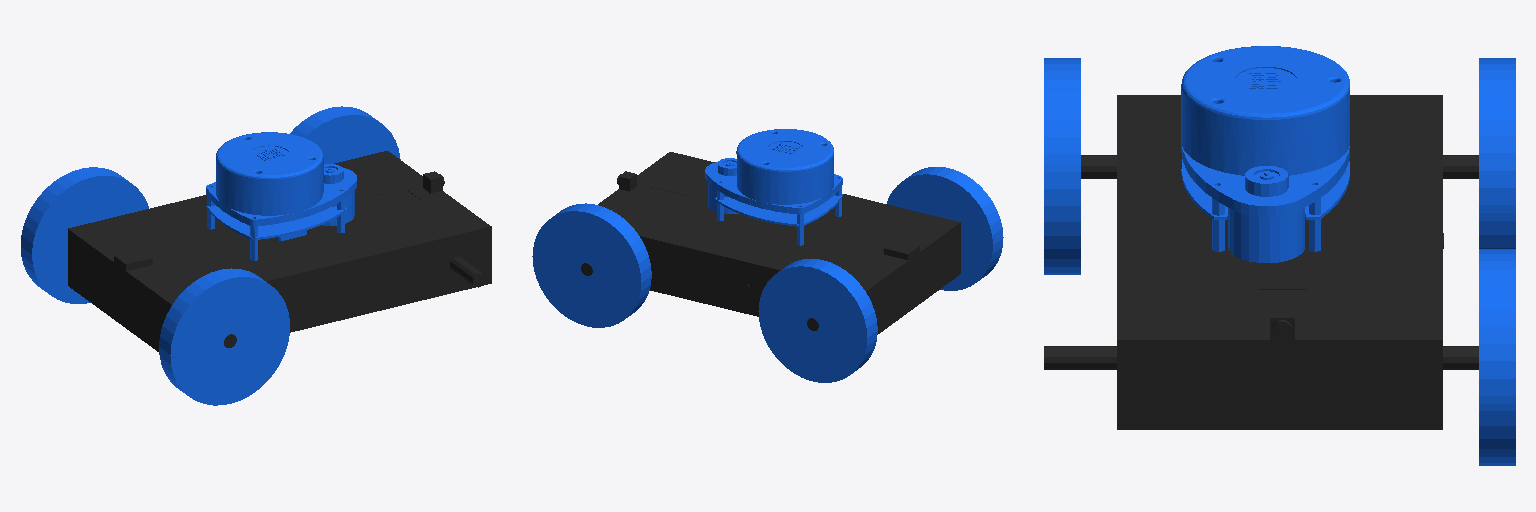
The robot description file, URDF, robot "ck":
<?xml version="1.0" encoding="utf-8"?>
<!-- This URDF was automatically created by SolidWorks to URDF Exporter! Originally created by [author] ([email redacted]) 
     Commit Version: 1.6.0-4-g7f85cfe  Build Version: 1.6.7995.38578
     For more information, please see http://wiki.ros.org/sw_urdf_exporter -->
<robot
  name="ck">
  <link
    name="base_link">
    <inertial>
      <origin
        xyz="0.0841187968335356 0.112401722324964 0.178721217481401"
        rpy="0 0 0" />
      <mass
        value="9.65650931147462" />
      <inertia
        ixx="0.0480130155812075"
        ixy="-2.16128335468421E-08"
        ixz="2.86811488996925E-07"
        iyy="0.06169044482379"
        iyz="-1.5067102443124E-06"
        izz="0.0163609670809155" />
    </inertial>
    <visual>
      <origin
        xyz="0 0 0"
        rpy="0 0 0" />
      <geometry>
        <mesh
          filename="package://ck_control/meshes/base_link.STL" />
      </geometry>
      <material
        name="">
        <color
          rgba="0.2 0.2 0.2 1" />
      </material>
    </visual>
    <collision>
      <origin
        xyz="0 0 0"
        rpy="0 0 0" />
      <geometry>
        <mesh
          filename="package://ck_control/meshes/base_link.STL" />
      </geometry>
    </collision>
  </link>
  <link
    name="camera_Link">
    <inertial>
      <origin
        xyz="-5.1945E-14 2.7756E-17 -0.005992"
        rpy="0 0 0" />
      <mass
        value="0.0072806" />
      <inertia
        ixx="1.2321E-07"
        ixy="7.2268E-24"
        ixz="-5.4439E-23"
        iyy="1.2321E-07"
        iyz="-4.9685E-23"
        izz="1.1481E-07" />
    </inertial>
    <visual>
      <origin
        xyz="0 0 0"
        rpy="0 0 0" />
      <geometry>
        <mesh
          filename="package://ck_control/meshes/camera_Link.STL" />
      </geometry>
      <material
        name="">
        <color
          rgba="0.2 0.2 0.2 1" />
      </material>
    </visual>
    <collision>
      <origin
        xyz="0 0 0"
        rpy="0 0 0" />
      <geometry>
        <mesh
          filename="package://ck_control/meshes/camera_Link.STL" />
      </geometry>
    </collision>
  </link>
  <joint
    name="camera_joint"
    type="fixed">
    <origin
      xyz="0.12225 0.0010282 0.046"
      rpy="1.5708 0 1.5708" />
    <parent
      link="base_link" />
    <child
      link="camera_Link" />
    <axis
      xyz="0 0 0" />
    <limit
      lower="0"
      upper="0"
      effort="0"
      velocity="0" />
  </joint>
  <link
    name="lidar_Link">
    <inertial>
      <origin
        xyz="-0.0074835 0.010668 9.1926E-05"
        rpy="0 0 0" />
      <mass
        value="1.2284" />
      <inertia
        ixx="0.00056762"
        ixy="0.00014607"
        ixz="7.4029E-07"
        iyy="0.0010137"
        iyz="2.8538E-06"
        izz="0.0008868" />
    </inertial>
    <visual>
      <origin
        xyz="0 0 0"
        rpy="0 0 0" />
      <geometry>
        <mesh
          filename="package://ck_control/meshes/lidar_Link.STL" />
      </geometry>
  <material name="clearblue" >
    <color rgba="0.1411764705882353 0.47843137254901963 0.9921568627450981 1.0" />
  </material>
    </visual>
    <collision>
      <origin
        xyz="0 0 0"
        rpy="0 0 0" />
      <geometry>
        <mesh
          filename="package://ck_control/meshes/lidar_Link.STL" />
      </geometry>
    </collision>
  </link>
  <joint
    name="lidar_joint"
    type="fixed">
    <origin
      xyz="0.0034645 -0.0056967 0.0656"
      rpy="1.5708 0 0.0079677" />
    <parent
      link="base_link" />
    <child
      link="lidar_Link" />
    <axis
      xyz="0 0 0" />
  </joint>
  <link
    name="left1_wheel_Link">
    <inertial>
      <origin
        xyz="1.38777878078145E-17 2.77555756156289E-17 8.67361737988404E-19"
        rpy="0 0 0" />
      <mass
        value="0.678584013175395" />
      <inertia
        ixx="0.000360497756999429"
        ixy="-8.09870282623048E-40"
        ixz="-1.17025383189539E-18"
        iyy="0.000360497756999429"
        iyz="4.5364235985708E-37"
        izz="0.00069554861350478" />
    </inertial>
    <visual>
      <origin
        xyz="0 0 0"
        rpy="0 0 0" />
      <geometry>
        <mesh
          filename="package://ck_control/meshes/left1_wheel_Link.STL" />
      </geometry>    
  <material name="clearblue" >
    <color rgba="0.1411764705882353 0.47843137254901963 0.9921568627450981 1.0" />
  </material>
    </visual>
    <collision>
      <origin
        xyz="0 0 0"
        rpy="0 0 0" />
      <geometry>
        <mesh
          filename="package://ck_control/meshes/left1_wheel_Link.STL" />
      </geometry>
    </collision>
  </link>
  <joint
    name="left1_wheel_link_joint"
    type="continuous">
    <origin
      xyz="0.093647 0.090012 0.0205"
      rpy="-1.5708 0 3.1416" />
    <parent
      link="base_link" />
    <child
      link="left1_wheel_Link" />
    <axis
      xyz="0 0 -1" />
    <dynamics
      damping="0.1"
      friction="0.1" />
  </joint>
  <transmission name="left1_wheel_trans">
  <type>transmission_interface/SimpleTransmission</type>
  <joint name="left1_wheel_link_joint">
    <hardwareInterface>hardware_interface/VelocityJointInterface</hardwareInterface>
  </joint>
  <actuator name="left1_wheel_motor">
    <hardwareInterface>hardware_interface/VelocityJointInterface</hardwareInterface>
    <mechanicalReduction>1</mechanicalReduction>
  </actuator>
</transmission>
  <link
    name="left2_wheel_Link">
    <inertial>
      <origin
        xyz="0 0 1.7347E-18"
        rpy="0 0 0" />
      <mass
        value="0.67858" />
      <inertia
        ixx="0.0003605"
        ixy="-8.0987E-40"
        ixz="-1.1703E-18"
        iyy="0.0003605"
        iyz="4.5364E-37"
        izz="0.00069555" />
    </inertial>
    <visual>
      <origin
        xyz="0 0 0"
        rpy="0 0 0" />
      <geometry>
        <mesh
          filename="package://ck_control/meshes/left2_wheel_Link.STL" />
      </geometry>    
  <material name="clearblue" >
    <color rgba="0.1411764705882353 0.47843137254901963 0.9921568627450981 1.0" />
  </material>
    </visual>
    <collision>
      <origin
        xyz="0 0 0"
        rpy="0 0 0" />
      <geometry>
        <mesh
          filename="package://ck_control/meshes/left2_wheel_Link.STL" />
      </geometry>
    </collision>
  </link>
  <joint
    name="left2_wheel_link_joint"
    type="continuous">
    <origin
      xyz="-0.093219 0.090012 0.0205"
      rpy="-1.5708 0 3.1416" />
    <parent
      link="base_link" />
    <child
      link="left2_wheel_Link" />
    <axis
      xyz="0 0 -1" />
    <dynamics
      damping="0.1"
      friction="0.1" />
  </joint>
  <transmission name="left2_wheel_trans">
  <type>transmission_interface/SimpleTransmission</type>
  <joint name="left2_wheel_link_joint">
    <hardwareInterface>hardware_interface/VelocityJointInterface</hardwareInterface>
  </joint>
  <actuator name="left2_wheel_motor">
    <hardwareInterface>hardware_interface/VelocityJointInterface</hardwareInterface>
    <mechanicalReduction>1</mechanicalReduction>
  </actuator>
</transmission>
  <link
    name="right1_wheel_Link">
    <inertial>
      <origin
        xyz="0 0 2.77555756156289E-17"
        rpy="0 0 0" />
      <mass
        value="0.678584013175396" />
      <inertia
        ixx="0.000360497756999429"
        ixy="-8.09870282622094E-40"
        ixz="-1.16725215888856E-18"
        iyy="0.000360497756999429"
        iyz="4.53642359857081E-37"
        izz="0.000695548613504781" />
    </inertial>
    <visual>
      <origin
        xyz="0 0 0"
        rpy="0 0 0" />
      <geometry>
        <mesh
          filename="package://ck_control/meshes/right1_wheel_Link.STL" />
      </geometry>
  <material name="clearblue" >
    <color rgba="0.1411764705882353 0.47843137254901963 0.9921568627450981 1.0" />
  </material>
    </visual>
    <collision>
      <origin
        xyz="0 0 0"
        rpy="0 0 0" />
      <geometry>
        <mesh
          filename="package://ck_control/meshes/right1_wheel_Link.STL" />
      </geometry>
    </collision>
  </link>
  <joint
    name="right1_wheel_link_joint"
    type="continuous">
    <origin
      xyz="0.093645 -0.090012 0.0205"
      rpy="-1.5708 0 3.1416" />
    <parent
      link="base_link" />
    <child
      link="right1_wheel_Link" />
    <axis
      xyz="0 0 1" />
    <dynamics
      damping="0.1"
      friction="0.1" />
  </joint>
  <transmission name="right1_wheel_trans">
  <type>transmission_interface/SimpleTransmission</type>
  <joint name="right1_wheel_link_joint">
    <hardwareInterface>hardware_interface/VelocityJointInterface</hardwareInterface>
  </joint>
  <actuator name="right1_wheel_motor">
    <hardwareInterface>hardware_interface/VelocityJointInterface</hardwareInterface>
    <mechanicalReduction>1</mechanicalReduction>
  </actuator>
</transmission>
  <link
    name="right2_wheel_Link">
    <inertial>
      <origin
        xyz="0 -1.38777878078145E-17 -2.77555756156289E-17"
        rpy="0 0 0" />
      <mass
        value="0.678584013175395" />
      <inertia
        ixx="0.000360497756999428"
        ixy="-1.55490309620423E-21"
        ixz="6.28921963336042E-21"
        iyy="0.000360497756999428"
        iyz="4.64544632009739E-21"
        izz="0.000695548613504779" />
    </inertial>
    <visual>
      <origin
        xyz="0 0 0"
        rpy="0 0 0" />
      <geometry>
        <mesh
          filename="package://ck_control/meshes/right2_wheel_Link.STL" />
      </geometry>
  <material name="clearblue" >
    <color rgba="0.1411764705882353 0.47843137254901963 0.9921568627450981 1.0" />
  </material>
    </visual>
    <collision>
      <origin
        xyz="0 0 0"
        rpy="0 0 0" />
      <geometry>
        <mesh
          filename="package://ck_control/meshes/right2_wheel_Link.STL" />
      </geometry>
    </collision>
  </link>
  <joint
    name="right2_wheel_link_joint"
    type="continuous">
    <origin
      xyz="-0.093215 -0.090012 0.0205"
      rpy="-1.5708 0 3.1416" />
    <parent
      link="base_link" />
    <child
      link="right2_wheel_Link" />
    <axis
      xyz="0 0 1" />
    <dynamics
      damping="0.1"
      friction="0.1" />
  </joint>
  <transmission name="right2_wheel_trans">
  <type>transmission_interface/SimpleTransmission</type>
  <joint name="right2_wheel_link_joint">
    <hardwareInterface>hardware_interface/VelocityJointInterface</hardwareInterface>
  </joint>
  <actuator name="right2_wheel_motor">
    <hardwareInterface>hardware_interface/VelocityJointInterface</hardwareInterface>
    <mechanicalReduction>1</mechanicalReduction>
  </actuator>
</transmission>
</robot>

--- Facts derived from the render (not from the file) ---
The picture shows the robot from 3 angles, left to right: view 1: azimuth 30°, elevation 25°; view 2: azimuth 150°, elevation 25°; view 3: azimuth 270°, elevation 25°; orthographic projection.
Robot: ck — 7 links, 6 joints (4 continuous, 2 fixed); root link base_link; default pose: all joints at 0.
Visible links, largest first — view 1: base_link, right2_wheel_Link, lidar_Link, left2_wheel_Link, left1_wheel_Link; view 2: base_link, left1_wheel_Link, left2_wheel_Link, lidar_Link, right2_wheel_Link; view 3: base_link, lidar_Link, left1_wheel_Link, right2_wheel_Link, left2_wheel_Link, camera_Link.
Link boxes in pixels (left/top/right/bottom): base_link: left=68, top=151, right=491, bottom=351; right2_wheel_Link: left=159, top=268, right=289, bottom=405; lidar_Link: left=206, top=132, right=356, bottom=260; left2_wheel_Link: left=21, top=167, right=148, bottom=303; left1_wheel_Link: left=290, top=106, right=400, bottom=163; base_link: left=581, top=152, right=960, bottom=334; left1_wheel_Link: left=532, top=203, right=651, bottom=327; left2_wheel_Link: left=758, top=259, right=877, bottom=382; lidar_Link: left=705, top=129, right=842, bottom=245; right2_wheel_Link: left=887, top=167, right=1003, bottom=290; base_link: left=1044, top=95, right=1478, bottom=429; lidar_Link: left=1181, top=46, right=1349, bottom=262; left1_wheel_Link: left=1479, top=249, right=1515, bottom=465; right2_wheel_Link: left=1044, top=58, right=1080, bottom=274; left2_wheel_Link: left=1479, top=58, right=1515, bottom=248; camera_Link: left=1270, top=309, right=1294, bottom=339.
Bounding box of the posed robot: 0.2769 × 0.195 × 0.1232 m (x, y, z).
6 mesh visuals loaded from 7 distinct referenced files (6 binary STL); not drawn: 1 (reference not matched to a file when rendering).